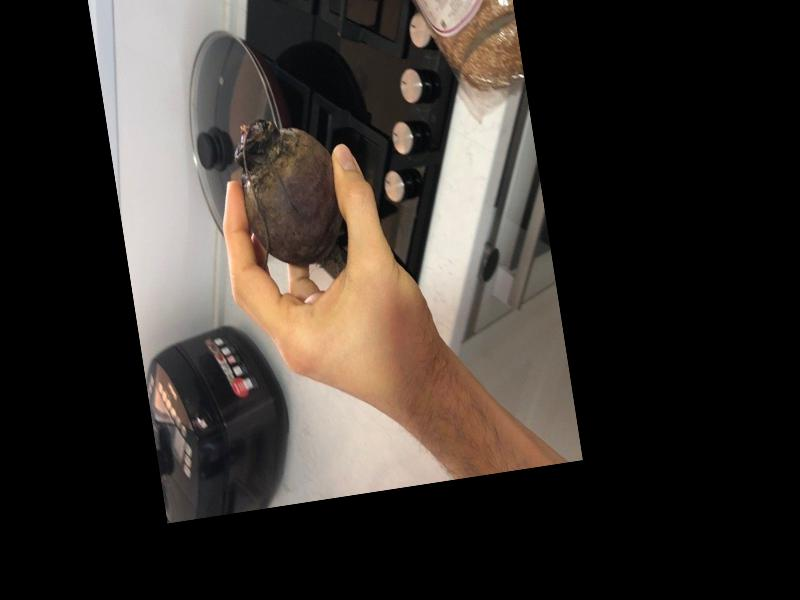Beet: (231, 109, 349, 282)
